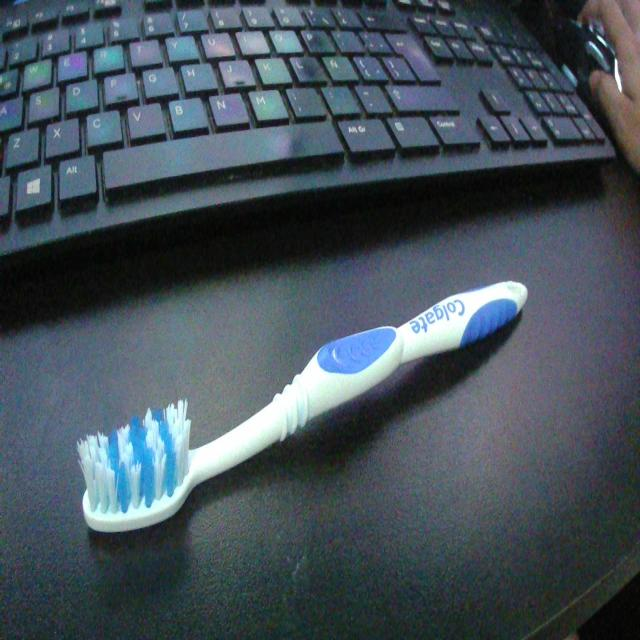Organico: (66, 270, 538, 549)
